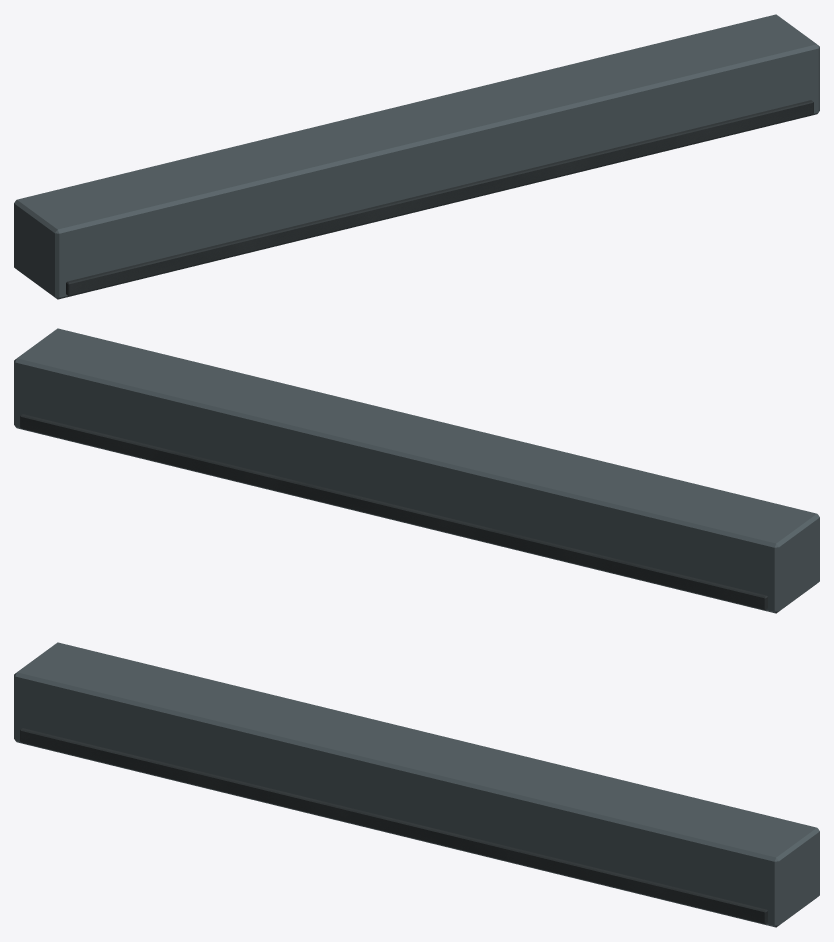
The model's file is CeilingBeam.glb.
3 views of the same model, one above another, from view 1: azimuth 30°, elevation 25°; view 2: azimuth 150°, elevation 25°; view 3: azimuth 330°, elevation 25° (orthographic).
Parts seen in each view (by area): view 1: CeilingBeam__BlackenedSteel__mesh, CeilingBeam__Powdercoat__mesh; view 2: CeilingBeam__BlackenedSteel__mesh, CeilingBeam__Powdercoat__mesh; view 3: CeilingBeam__BlackenedSteel__mesh, CeilingBeam__Powdercoat__mesh.
Boxes of the visible parts, left/top/right/bottom form: CeilingBeam__BlackenedSteel__mesh: left=14, top=14, right=819, bottom=299; CeilingBeam__Powdercoat__mesh: left=66, top=100, right=813, bottom=295; CeilingBeam__BlackenedSteel__mesh: left=14, top=328, right=819, bottom=613; CeilingBeam__Powdercoat__mesh: left=20, top=414, right=767, bottom=609; CeilingBeam__BlackenedSteel__mesh: left=14, top=642, right=819, bottom=927; CeilingBeam__Powdercoat__mesh: left=20, top=728, right=767, bottom=923.
Bounding box in the file's own units: 2.4 × 0.21 × 0.265.
2 materials, 1 textured.
